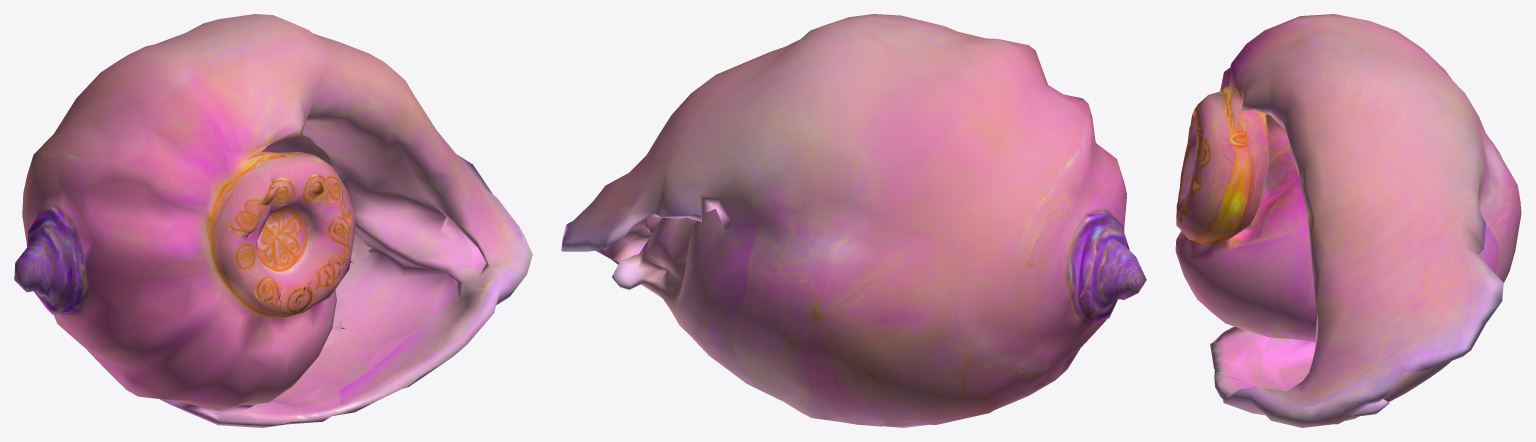
File: Iridescent_seashell_w_0728120735_texture.fbx
3 renders of one model, left to right at view 1: azimuth 30°, elevation 25°; view 2: azimuth 150°, elevation 25°; view 3: azimuth 270°, elevation 25°, orthographic. The views are drawn at different scales.
Parts seen in each view (by area): view 1: input; view 2: input; view 3: input.
Part boxes in pixels (x1,y1,x2,y2): input: (14,14,532,427); input: (561,14,1146,427); input: (1175,14,1521,427).
Bounding box in the file's own units: 200 × 137 × 129.
Materials: 1 (1 with a texture image).
